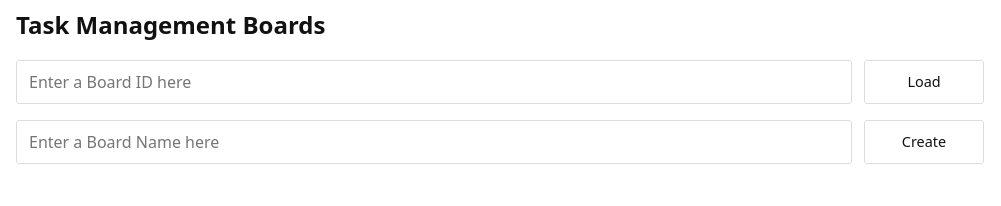
Test case: HomePage › requires a board name before creating
Click the button "Create": [924, 142] box x1=864 y1=120 x2=984 y2=164
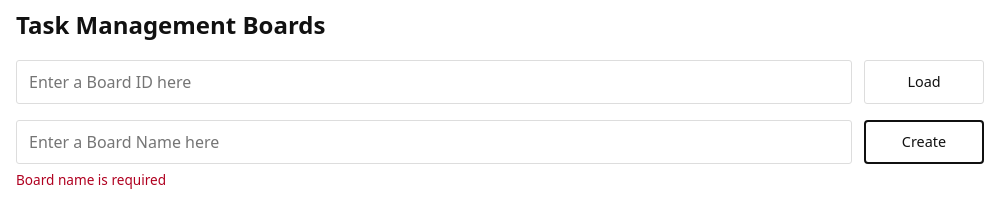
Check: the message reads "Board name is required", box x1=16 y1=170 x2=166 y2=189
